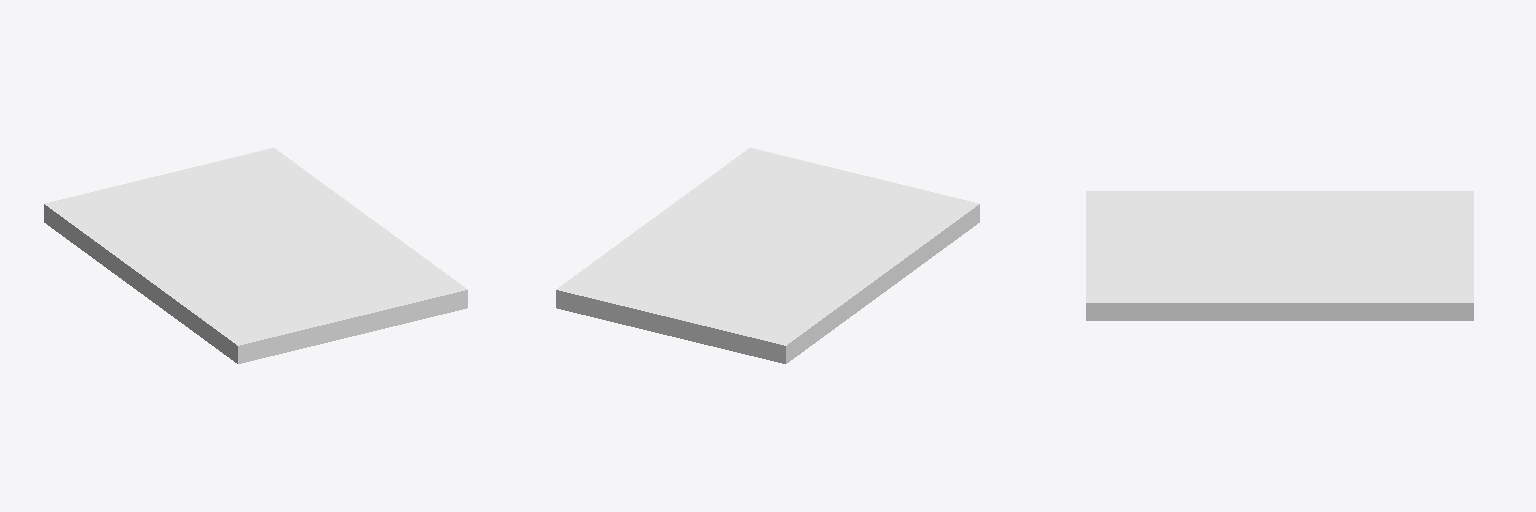
Rendered from journal.obj.
3 views of the same model, side by side, from view 1: azimuth 30°, elevation 25°; view 2: azimuth 150°, elevation 25°; view 3: azimuth 270°, elevation 25° (orthographic).
Visible parts, largest first — view 1: object 1; view 2: object 1; view 3: object 1.
Boxes of the visible parts, <box> form: object 1: <box>44,148,467,363</box>; object 1: <box>556,148,979,363</box>; object 1: <box>1086,191,1473,320</box>.
Bounding box in the file's own units: 1.3 × 0.1 × 1.9.